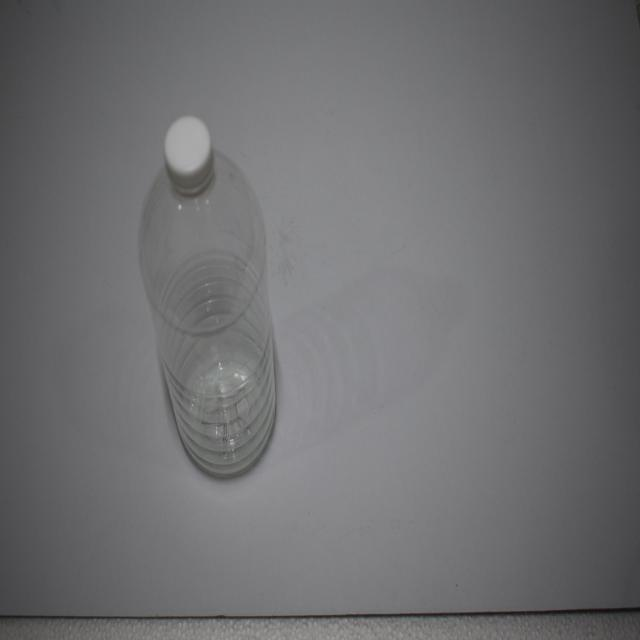bottle: (128, 112, 286, 484)
